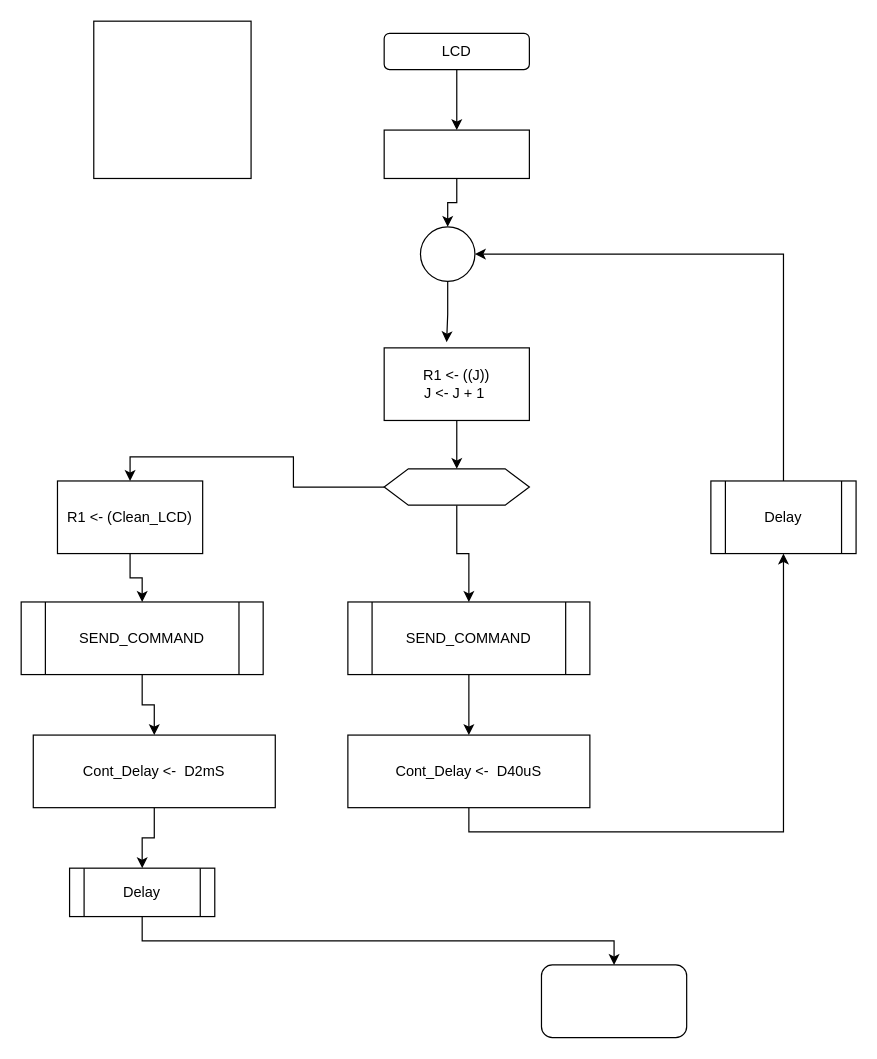
Some shapes in this 877 by 1059 pixel diagram are drawn without their labels. Each missing label, with the box of its shape:
C - carry K. - Y J - X R1 - A R2 - B RR1 - D: (93, 20, 251, 178)
J <- initDisp: (383, 129, 529, 178)
R1 = EOM: (383, 468, 529, 505)
RETURN: (540, 964, 687, 1038)
